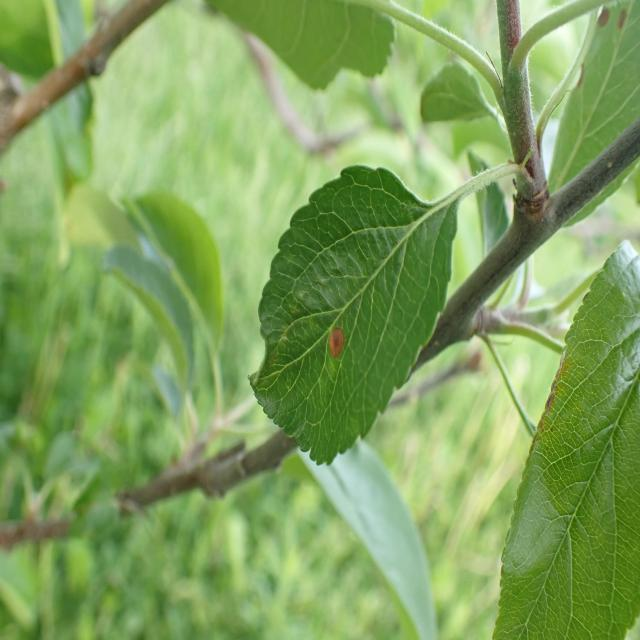Black Rot: (317, 316, 353, 362), (564, 55, 592, 103), (590, 1, 613, 42), (616, 7, 630, 50)
